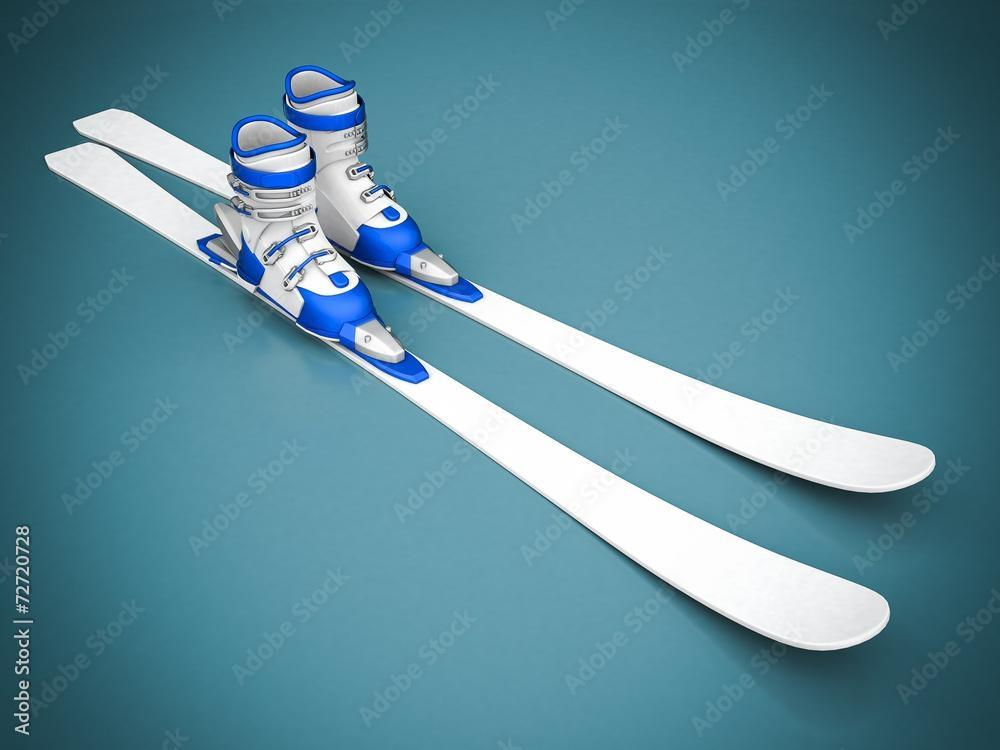Skis: (49, 37, 913, 676)
